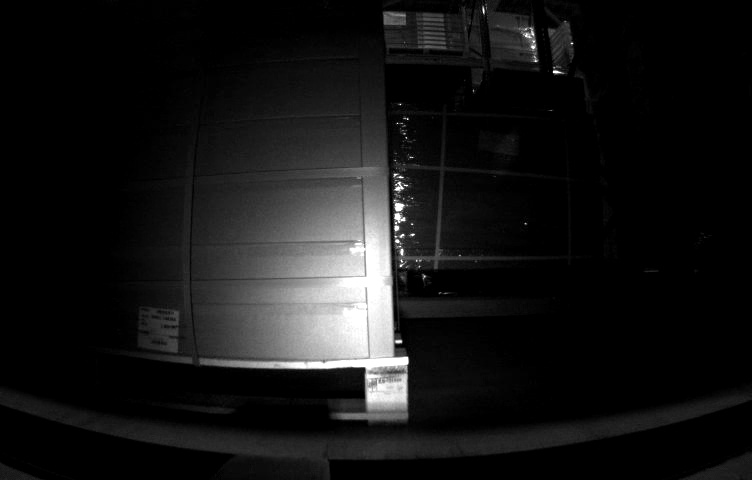True Barcode: (134, 306, 181, 351)
